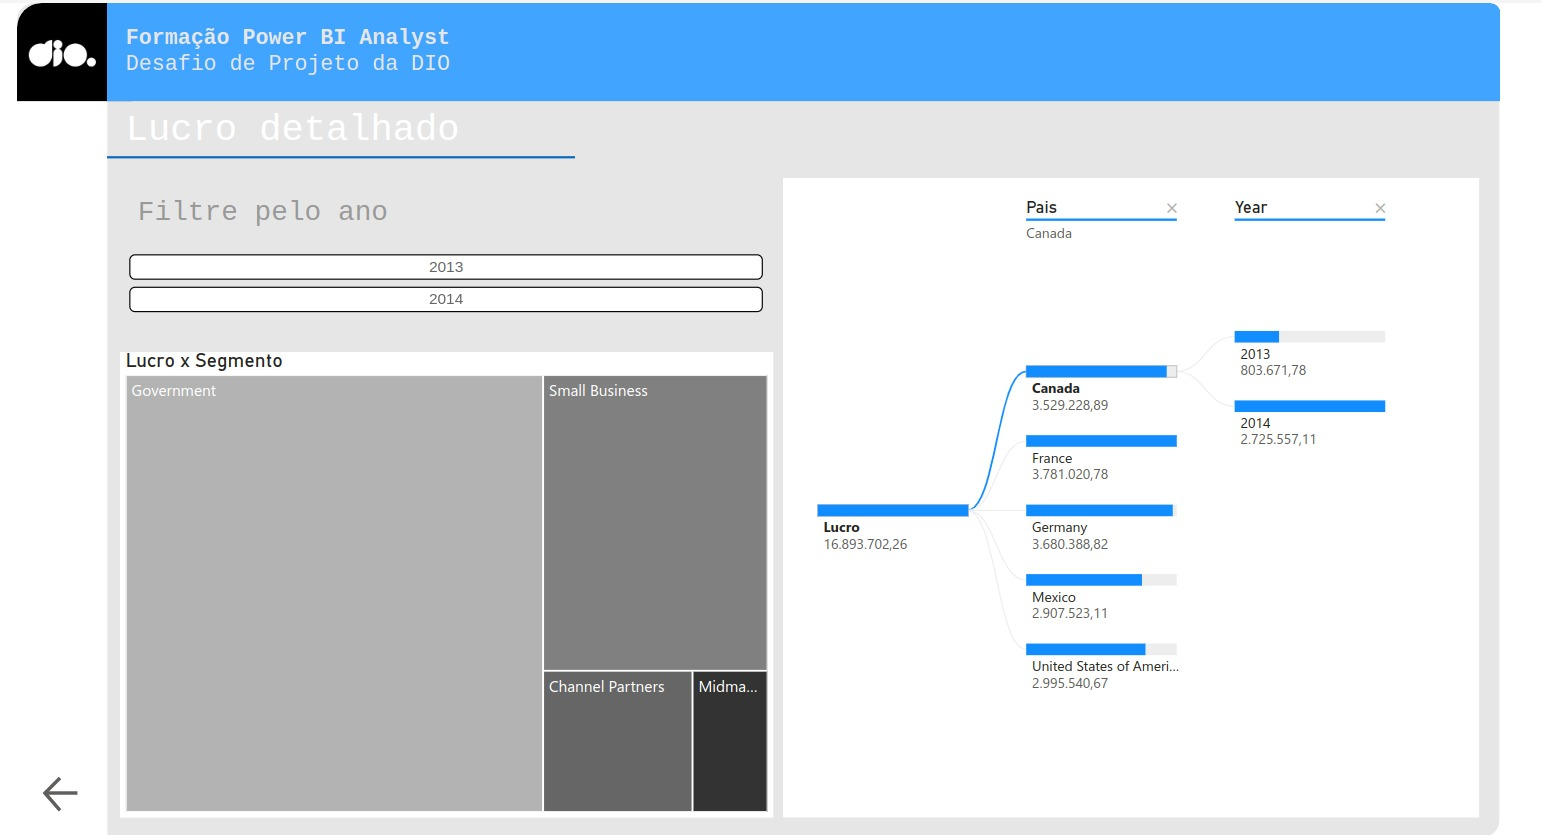

Layout of this report page (visuals, bound fields, positions):
{"tool":"powerbi","page":{"name":"Page 2","canvas":[1280,720],"ordinal":1},"visuals":[{"type":"shape","box":[0,0,1280,720],"z":0},{"type":"shape","box":[0,81.7,77.5,638.3],"z":1000},{"type":"shape","box":[0,0,99.2,85],"z":2000},{"type":"shape","box":[77.5,0,1202.5,85],"z":3000},{"type":"image","box":[5,6.7,68.3,71.7],"z":4000},{"type":"textbox","box":[89.2,15,300,55],"z":5000},{"type":"textbox","box":[89.1,86.4,313.6,47.3],"z":6000},{"type":"shape","box":[77.3,125.5,403.6,16.4],"z":7000},{"type":"actionButton","box":[17.8,663.3,42.2,40],"z":7001},{"type":"decompositionTreeVisual","fields":{"Analyze":["Sum(financials.Profit)"],"ExplainBy":["financials.Country","financials.Date.Variation.Date Hierarchy.Year"]},"box":[661.1,151.1,601.1,552.2],"z":7002},{"type":"treemap","title":"Lucro x Segmento","fields":{"Values":["Sum(financials.Profit)"],"Group":["financials.Segment"]},"box":[88.9,301.1,564.4,402.2],"z":7003},{"type":"ChicletSlicer1448559807354","fields":{"Category":["financials.Date.Variation.Date Hierarchy.Year"]},"box":[88.9,208.9,563.3,72.2],"z":7004},{"type":"textbox","box":[98.9,162.2,178.9,46.7],"z":7005}]}

Visuals, with their boxes on the page's 1280x720 design canvas (x1, y1, x2, y2). These are canvas units, not pixel positions in the 1542x835 screenshot, which may show the page scaled, cropped or inside an application window:
shape: box=[0, 0, 1280, 720]
shape: box=[0, 82, 78, 720]
shape: box=[0, 0, 99, 85]
shape: box=[78, 0, 1280, 85]
image: box=[5, 7, 73, 78]
textbox: box=[89, 15, 389, 70]
textbox: box=[89, 86, 403, 134]
shape: box=[77, 126, 481, 142]
actionButton: box=[18, 663, 60, 703]
decompositionTreeVisual - Sum(financials.Profit) x financials.Country: box=[661, 151, 1262, 703]
"Lucro x Segmento" treemap: box=[89, 301, 653, 703]
ChicletSlicer1448559807354 - financials.Date.Variation.Date Hierarchy.Year: box=[89, 209, 652, 281]
textbox: box=[99, 162, 278, 209]
